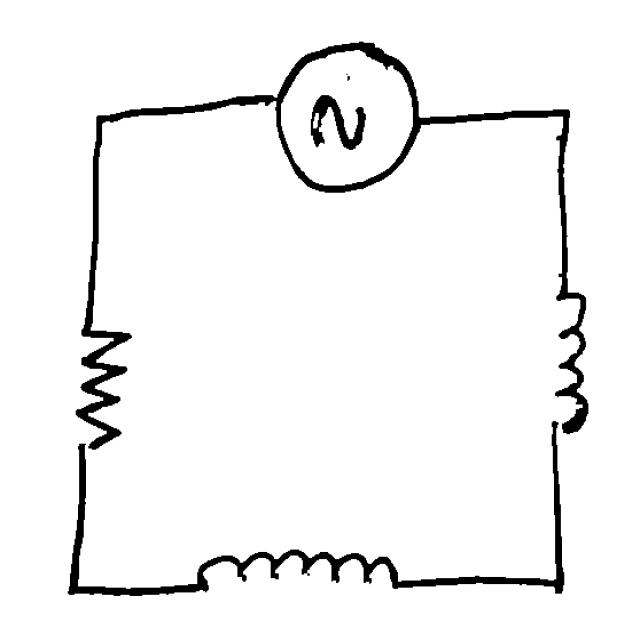ac: (260, 30, 436, 203)
inductor: (188, 539, 418, 618), (525, 270, 604, 451)
resistor: (60, 301, 140, 467)
